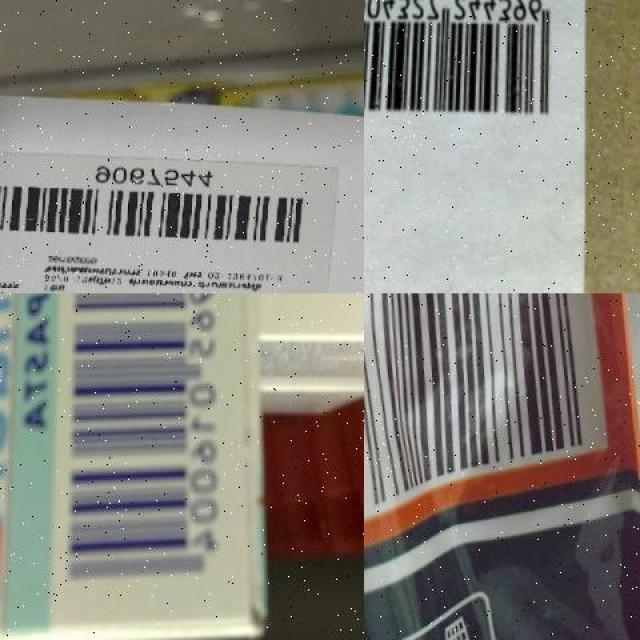Barcode: (364, 293, 621, 540), (56, 293, 244, 595), (0, 162, 325, 248), (364, 0, 574, 133)
